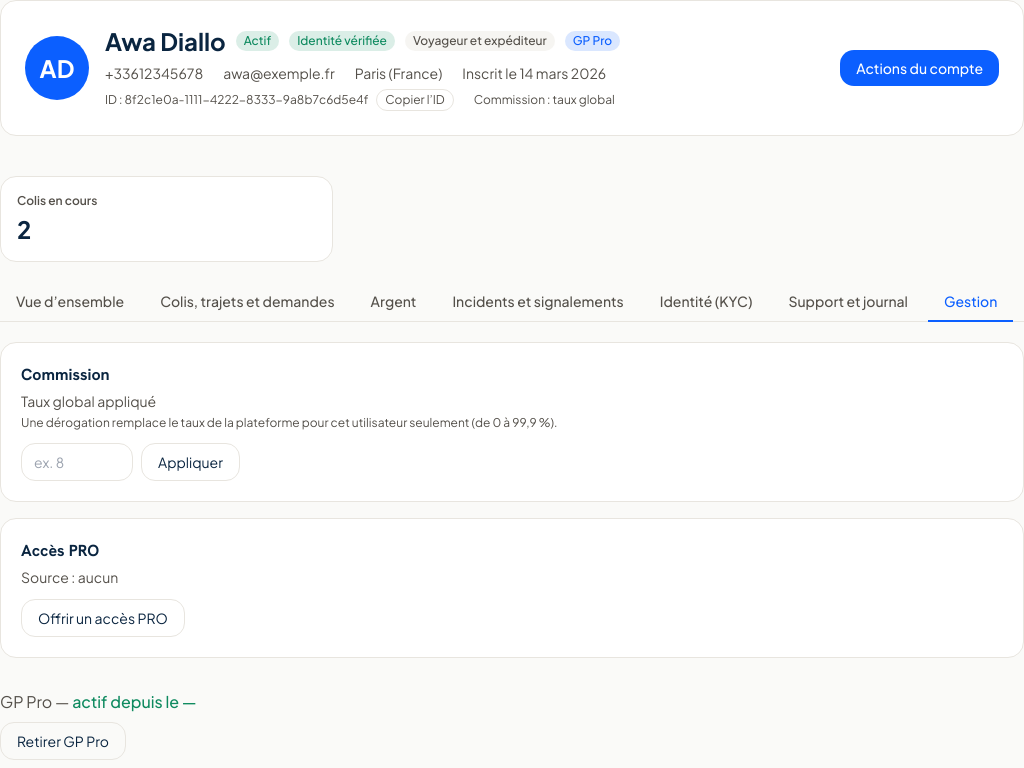
it: users/[id].vue › onglet Gestion › commission : 8 donne 0,08 et la fiche reflète la réponse
The image size is (1024, 768).
In the number field with test id "commission-input": point(77, 462) [21,443,133,481], type "8"
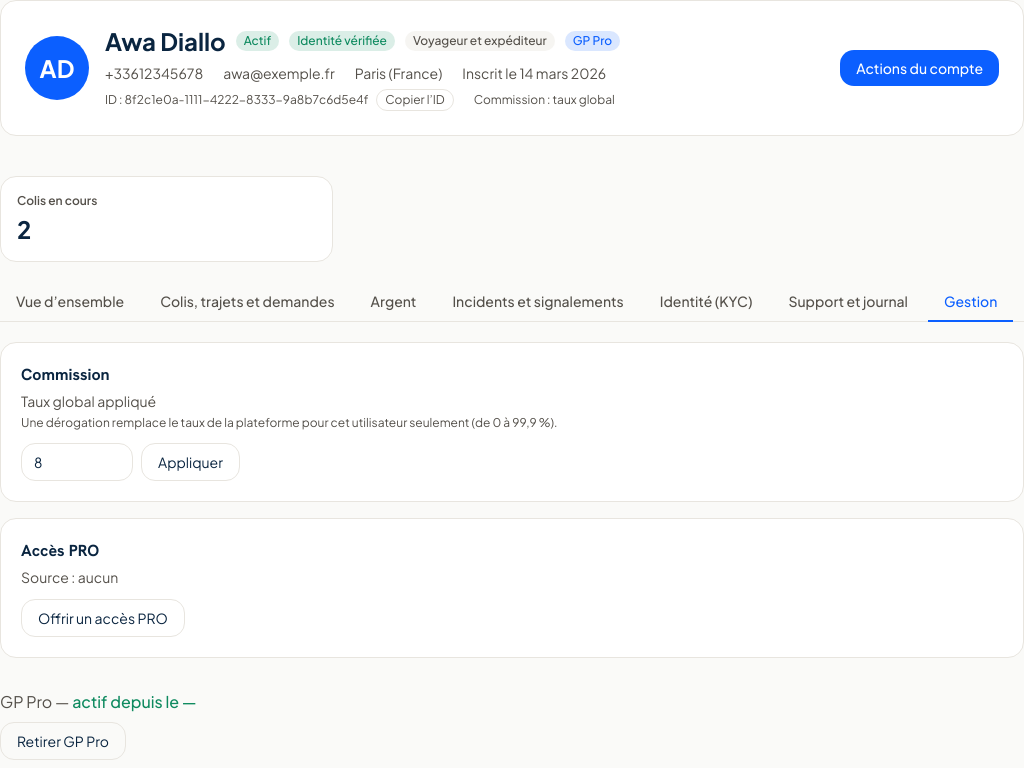
Click the button with test id "commission-apply": point(190, 462) [141,443,240,481]
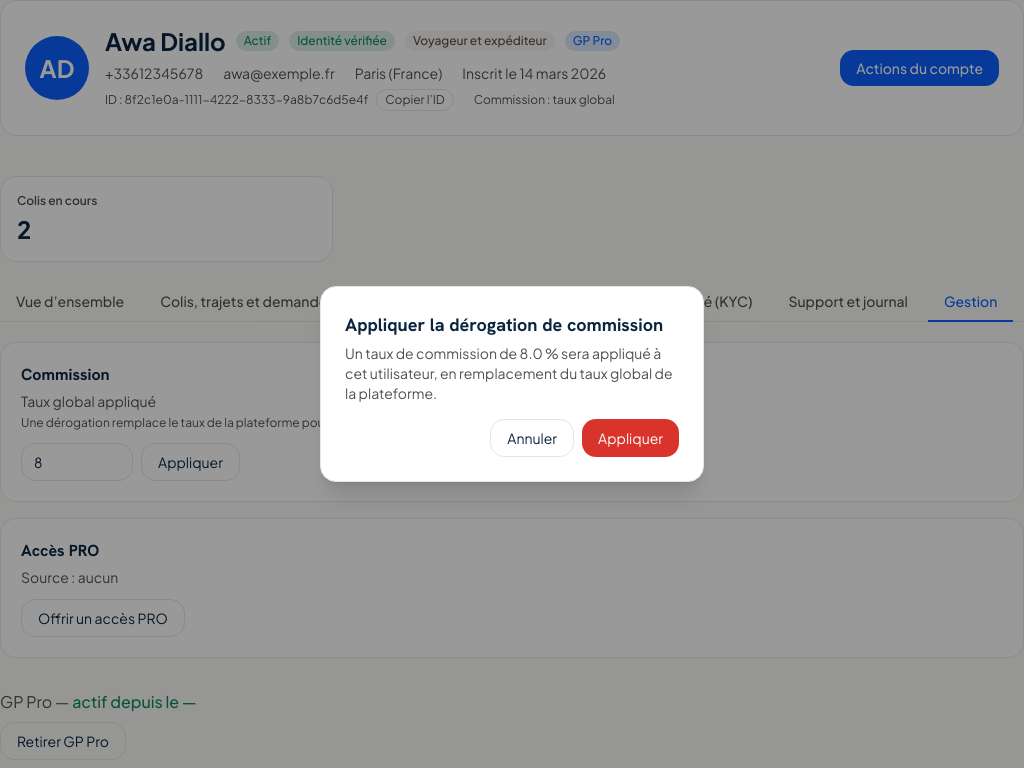
Click the button with test id "confirm": point(631, 438) [582,419,679,457]
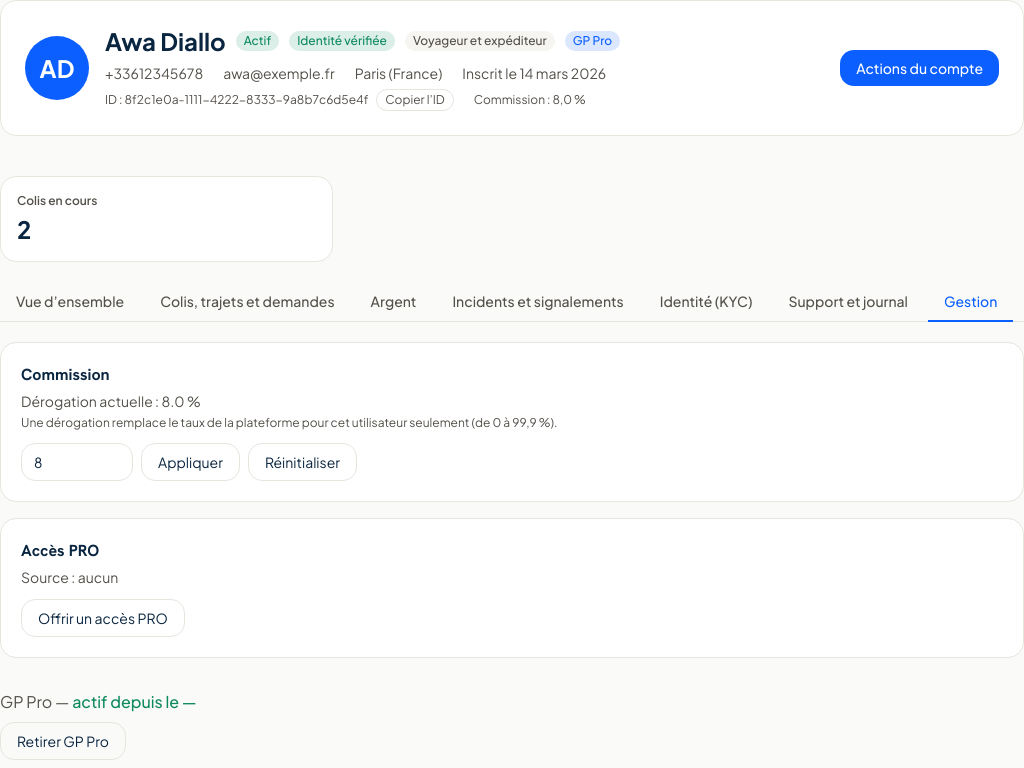
Result: the text with test id "commission-state" shows "8.0 %" at [21,392,201,410]
